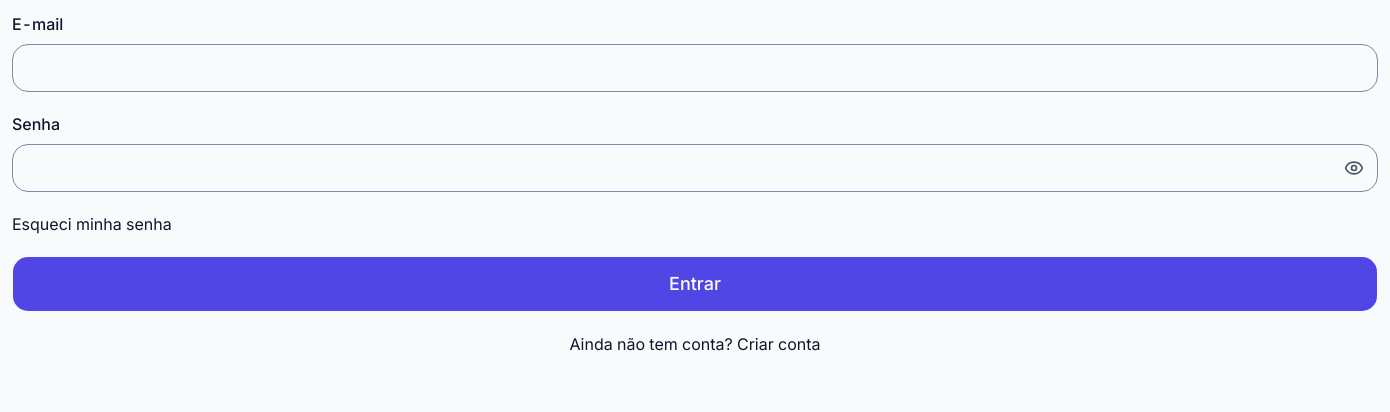
it: AuthForm com captcha › conta bloqueada: mostra o aviso do servidor com os minutos
In the field labelled "E-mail": (695, 68) [12,44,1378,92], type "maria@example.com"
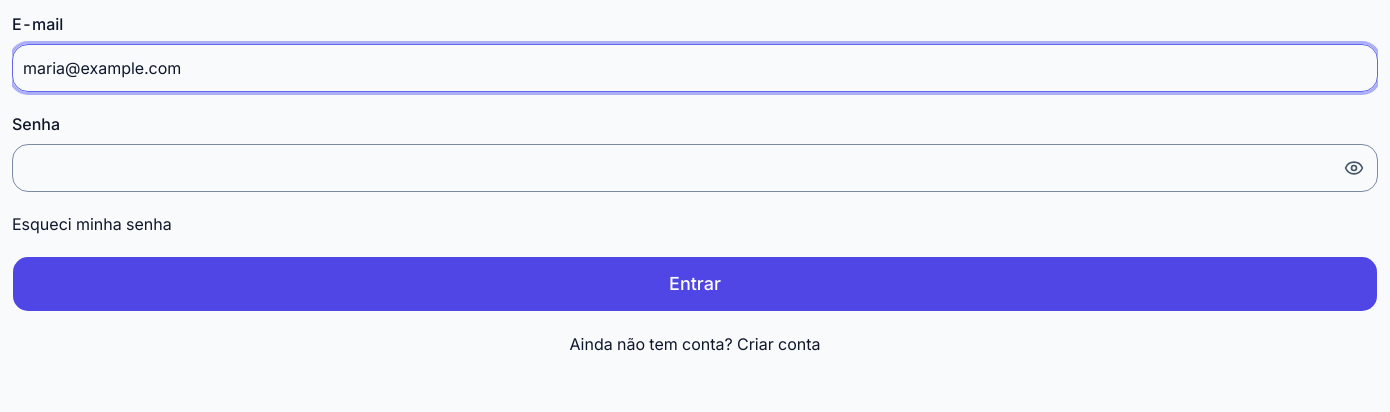
In the password field labelled "Senha": (695, 168) [12,144,1378,192], type "senha-errada"
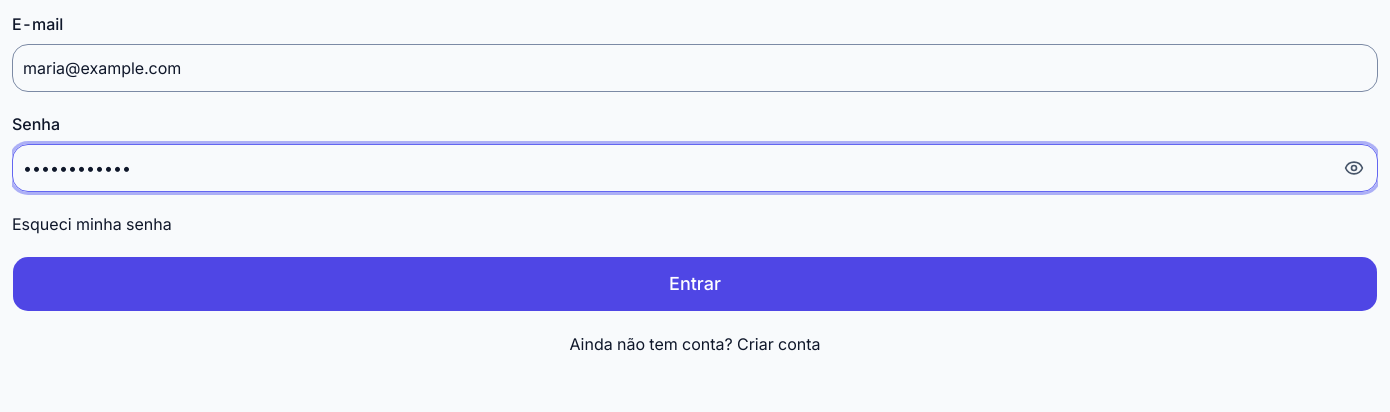
Click the button "Entrar": (695, 284) [12,256,1378,312]
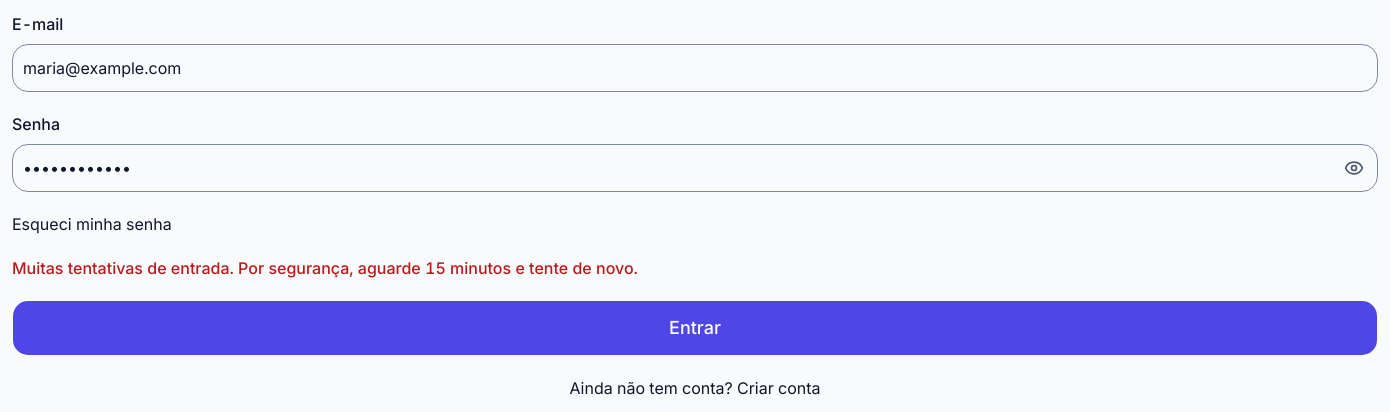
Result: the message shows "aguarde 15 minutos" at [12,258,638,278]
